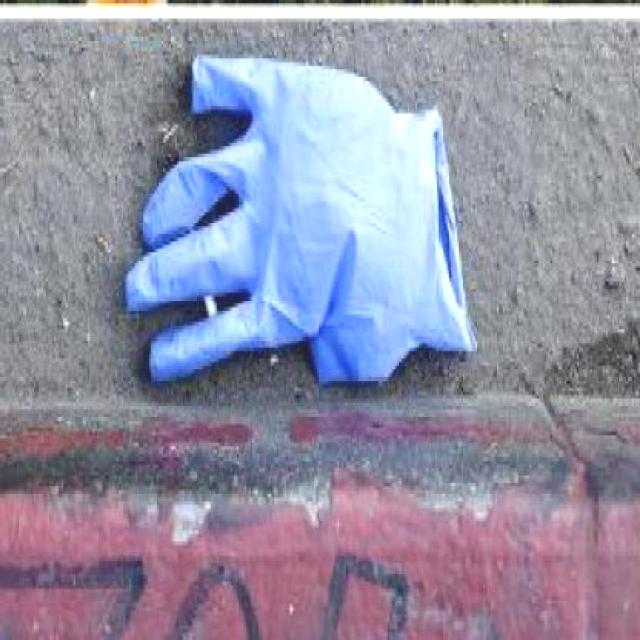glove: (120, 47, 477, 416)
